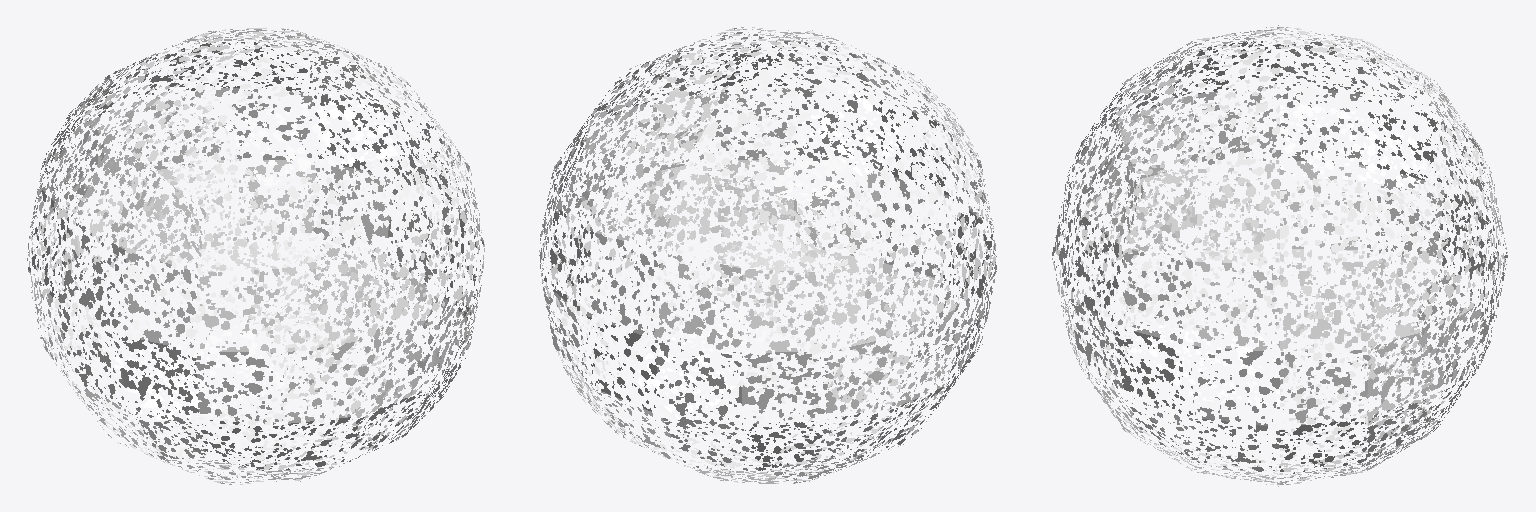
3 renders of one model, left to right at view 1: azimuth 30°, elevation 25°; view 2: azimuth 150°, elevation 25°; view 3: azimuth 270°, elevation 25°, orthographic.
Visible parts, largest first — view 1: Cube; view 2: Cube; view 3: Cube.
Boxes of the visible parts, <box> form: Cube: <box>27,28,484,484</box>; Cube: <box>539,27,996,483</box>; Cube: <box>1052,25,1507,486</box>.
Bounding box in the file's own units: 1.68 × 1.68 × 1.68.
1 materials, 1 textured.